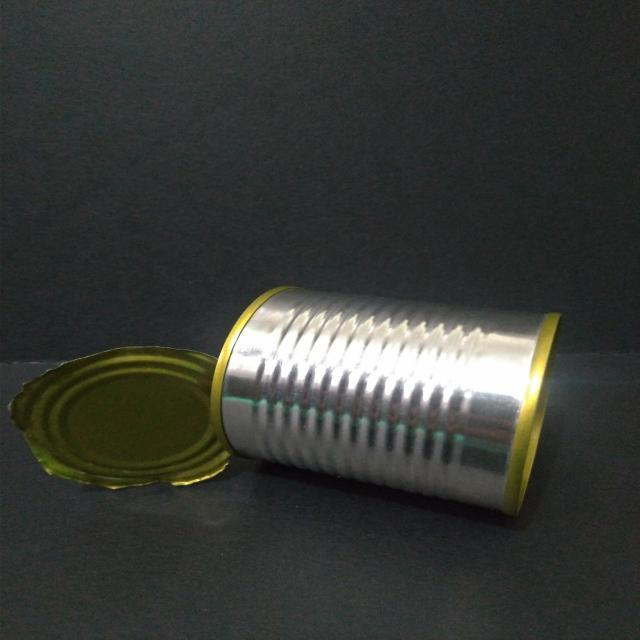metal-can: (8, 282, 572, 525)
